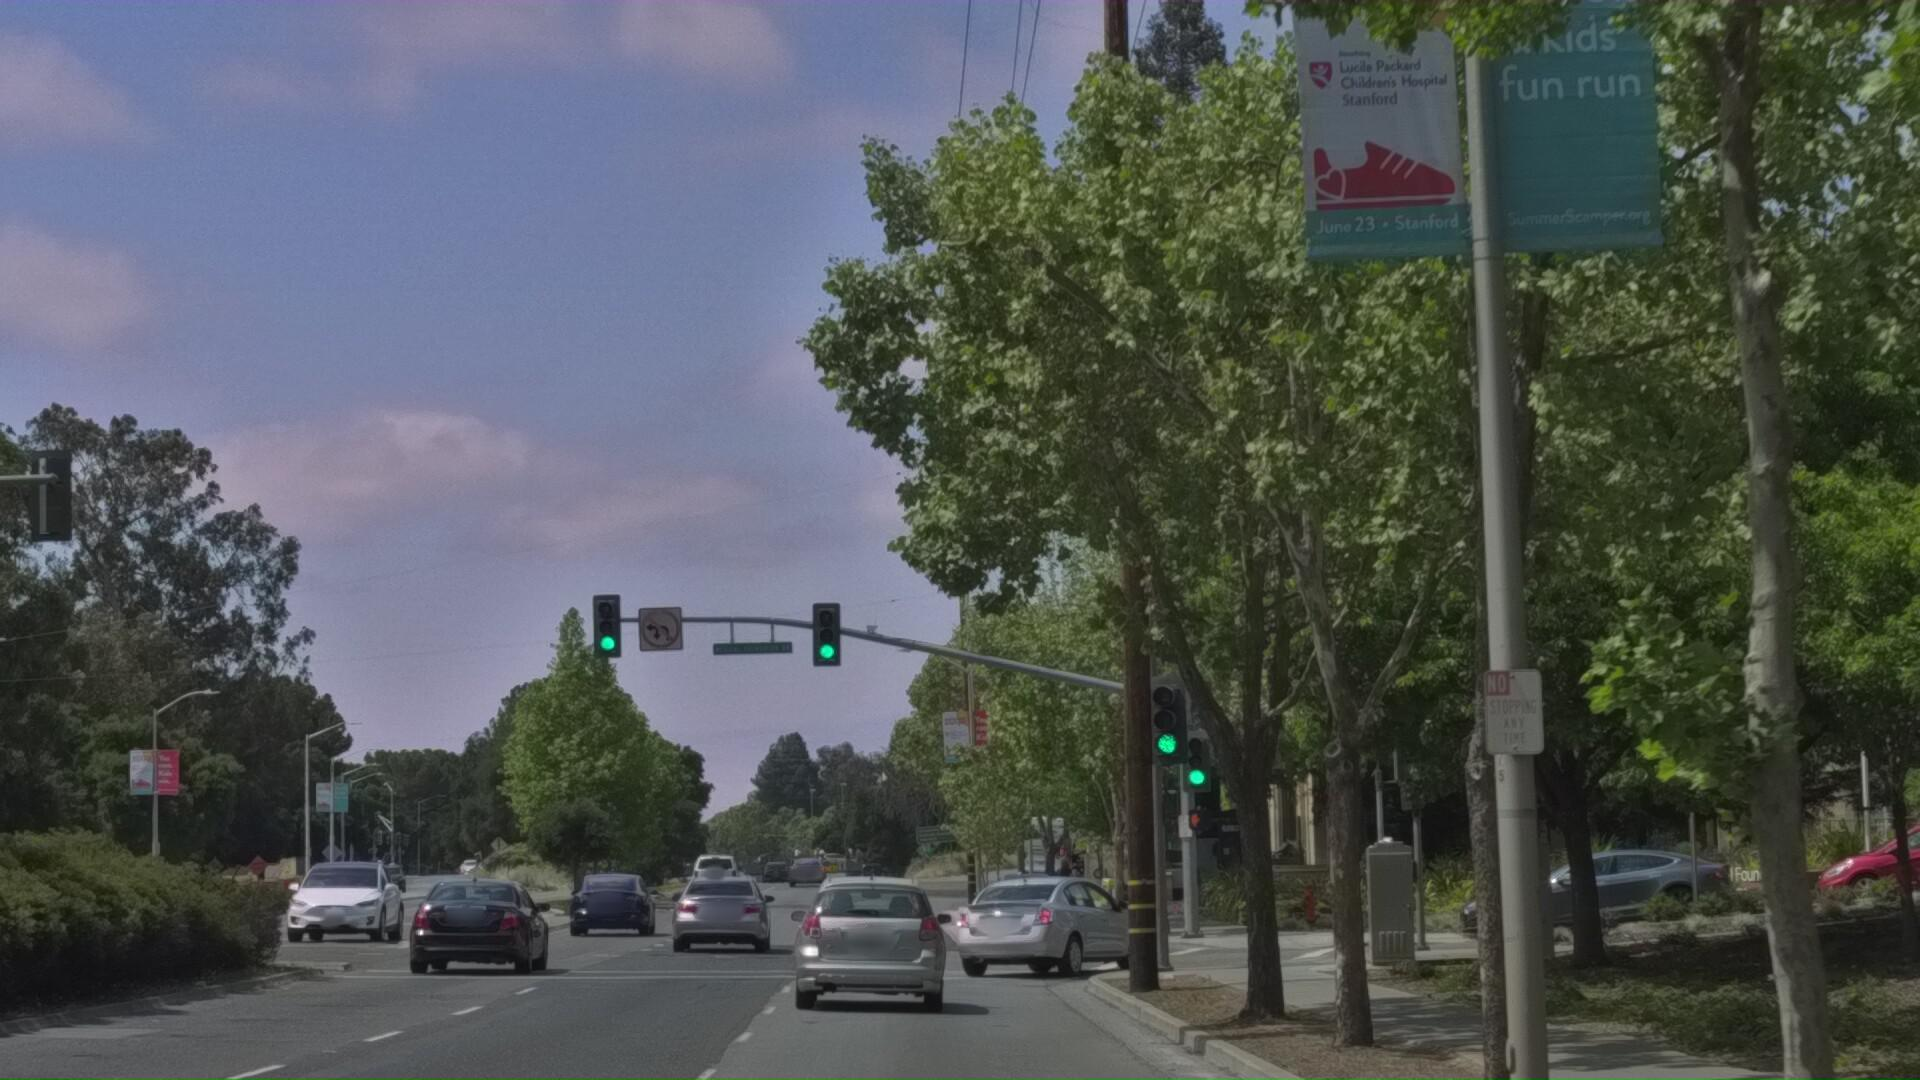car: (1460, 932, 1741, 1033), (785, 949, 967, 1080), (949, 973, 1164, 1080), (400, 972, 566, 1080), (285, 945, 419, 1039), (1818, 905, 1920, 1000), (673, 961, 786, 1043), (574, 973, 666, 1040)
